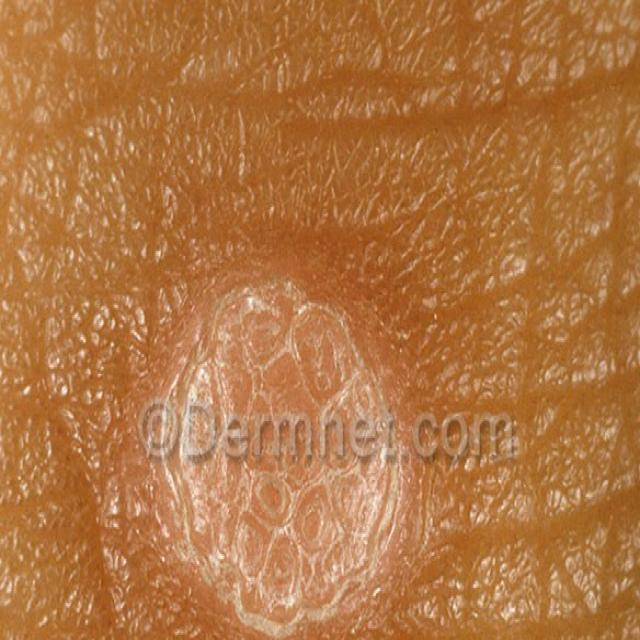Warts: (107, 230, 454, 640)
